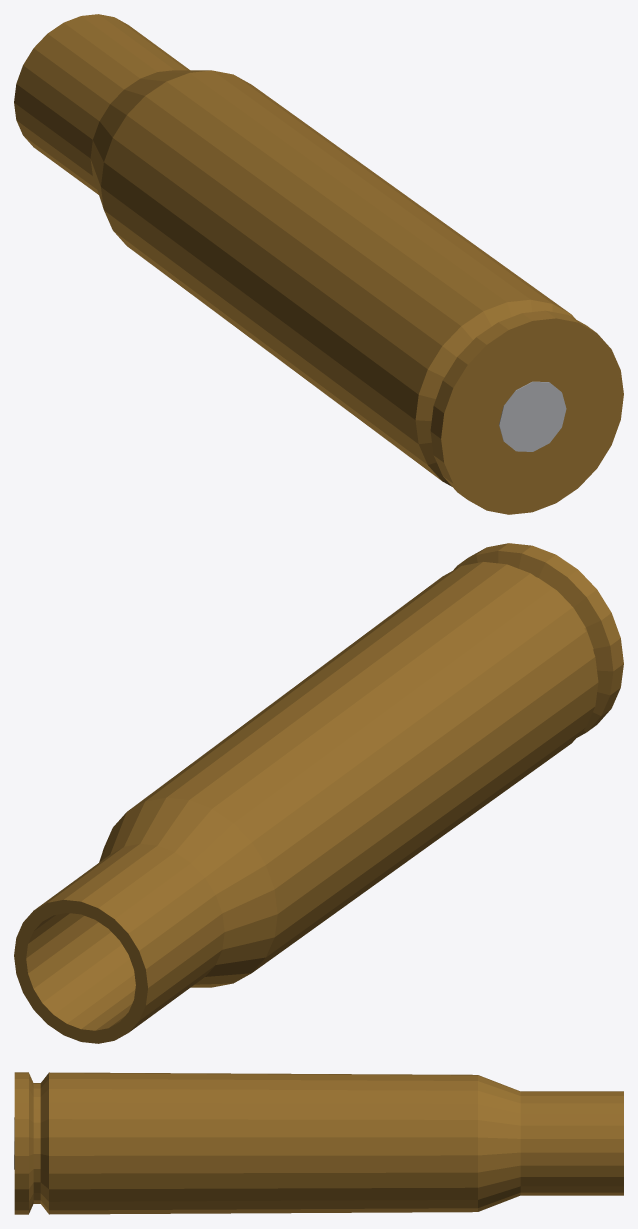
The model's file is estojo_308.glb.
3 views of the same model, one above another, from view 1: azimuth 30°, elevation 25°; view 2: azimuth 150°, elevation 25°; view 3: azimuth 270°, elevation 25° (orthographic). The views are drawn at different scales.
Visible parts, largest first — view 1: estojo_308_latao, estojo_308_aco_inox; view 2: estojo_308_latao; view 3: estojo_308_latao.
Part boxes in pixels (x1,y1,x2,y2): estojo_308_latao: (14,14,623,514); estojo_308_aco_inox: (499,381,566,451); estojo_308_latao: (14,543,623,1043); estojo_308_latao: (14,1072,623,1214).
Size of the model in its own units: 0.012 by 0.012 by 0.0514.
